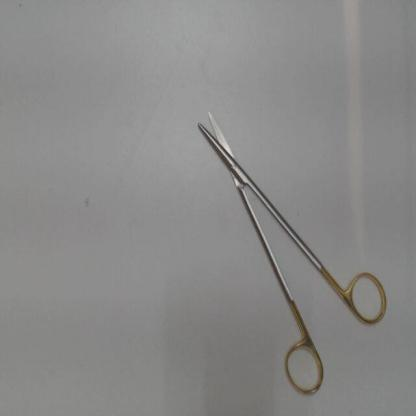7 Metzenbaum Scissors: (196, 109, 389, 400)
